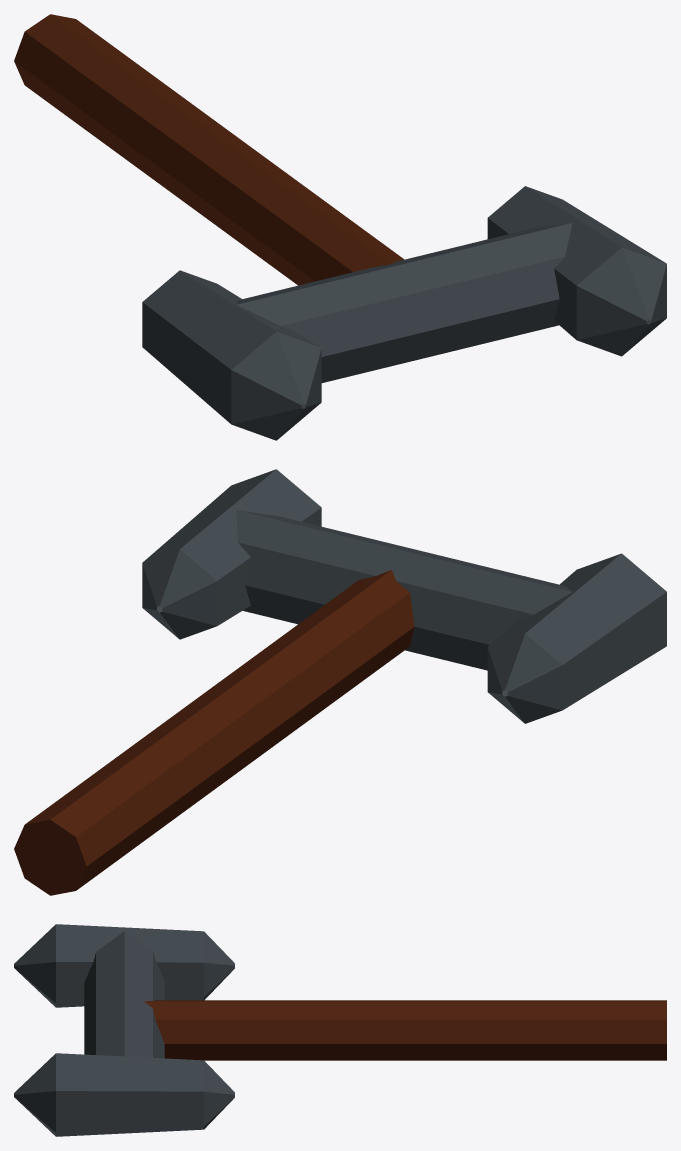
The model's file is SM_PrimalPick.obj.
3 views of the same model, one above another, from view 1: azimuth 30°, elevation 25°; view 2: azimuth 150°, elevation 25°; view 3: azimuth 270°, elevation 25° (orthographic). The views are drawn at different scales.
Visible parts, largest first — view 1: SM_PrimalPick; view 2: SM_PrimalPick; view 3: SM_PrimalPick.
Boxes of the visible parts, left/top/right/bottom form: SM_PrimalPick: left=14, top=14, right=666, bottom=440; SM_PrimalPick: left=14, top=469, right=666, bottom=895; SM_PrimalPick: left=14, top=924, right=666, bottom=1136.
Size of the model in its own units: 95.88 by 22.96 by 162.
